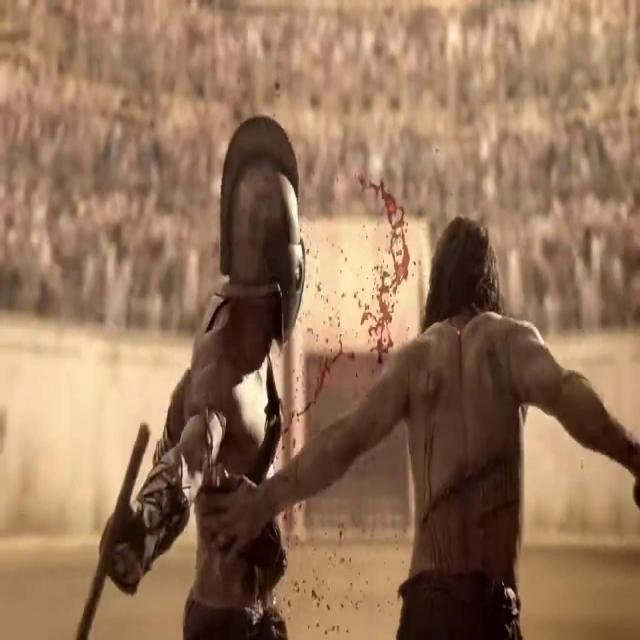flood: (145, 374, 313, 616), (319, 150, 426, 382)
